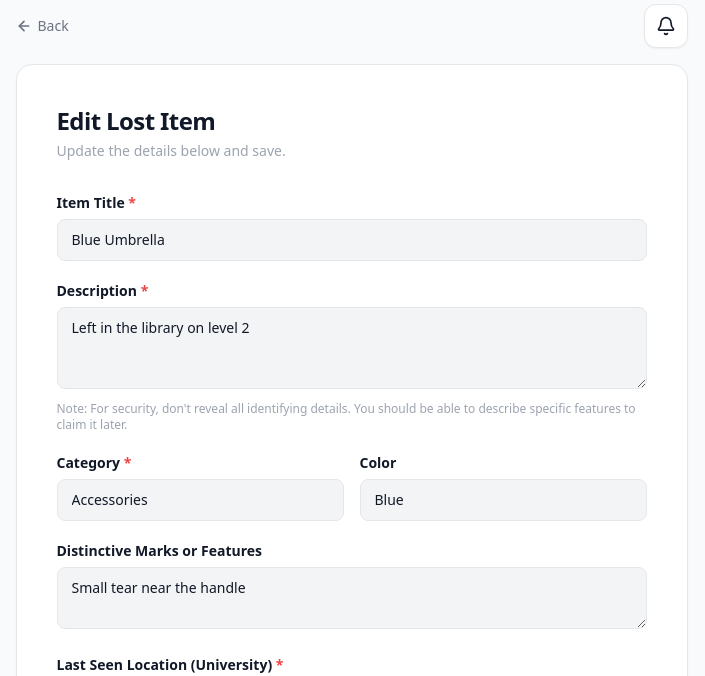
it: ReportLostItemPage — edit mode › shows a validation error when the title is cleared
Clear the field showing "Blue Umbrella" below "Item Title" at (352, 240), box [56,219,646,261]
(page scrolled)
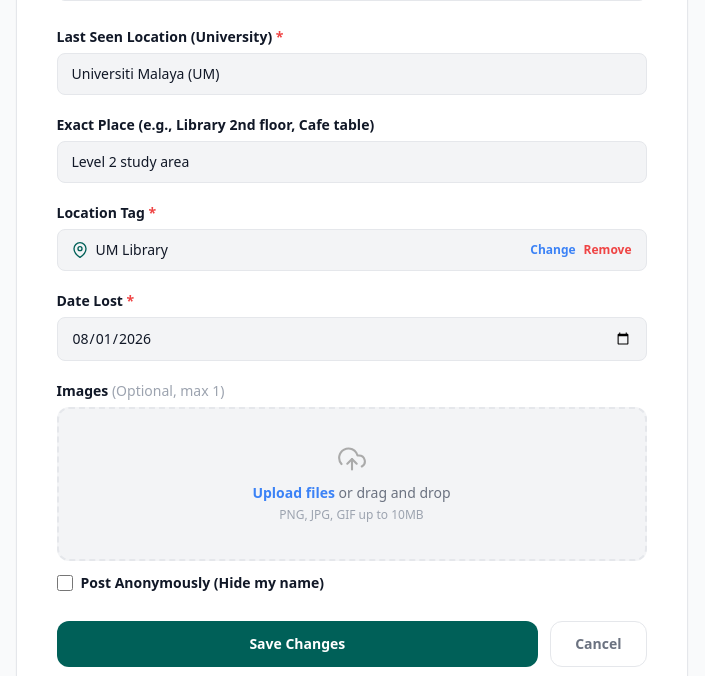
Click the button "Save Changes" at (297, 644), box [56,621,538,667]
(page scrolled)
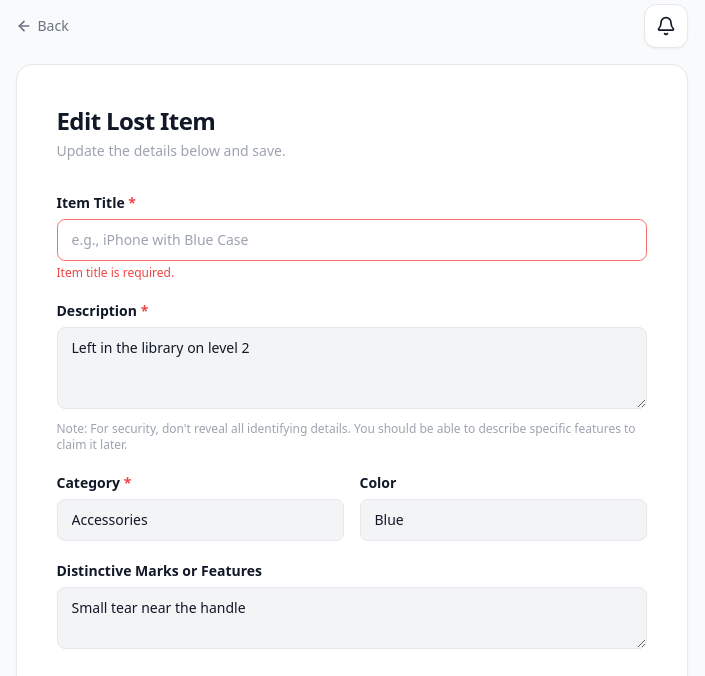
Check: the text "Item title is required." is shown, box [56,264,174,281]
